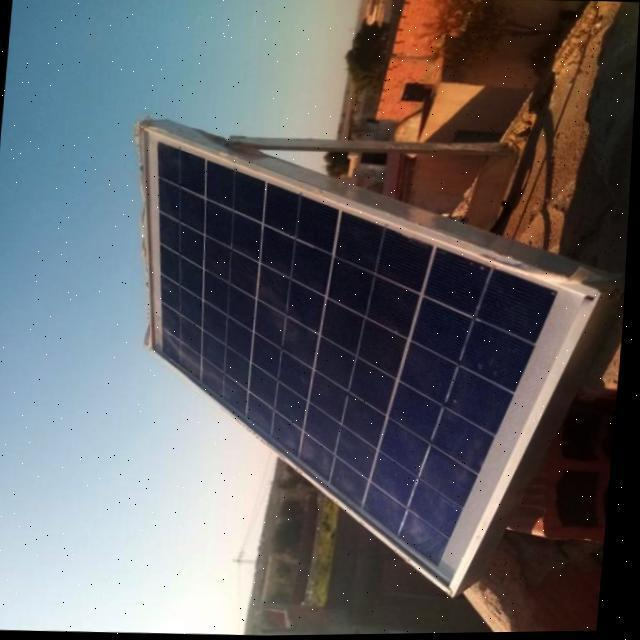Normal Solar Panel: (110, 118, 614, 604)
